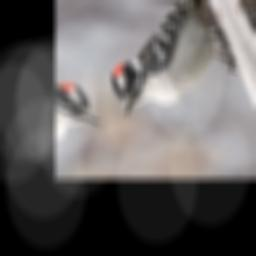Woodpecker: (77, 0, 250, 119)
